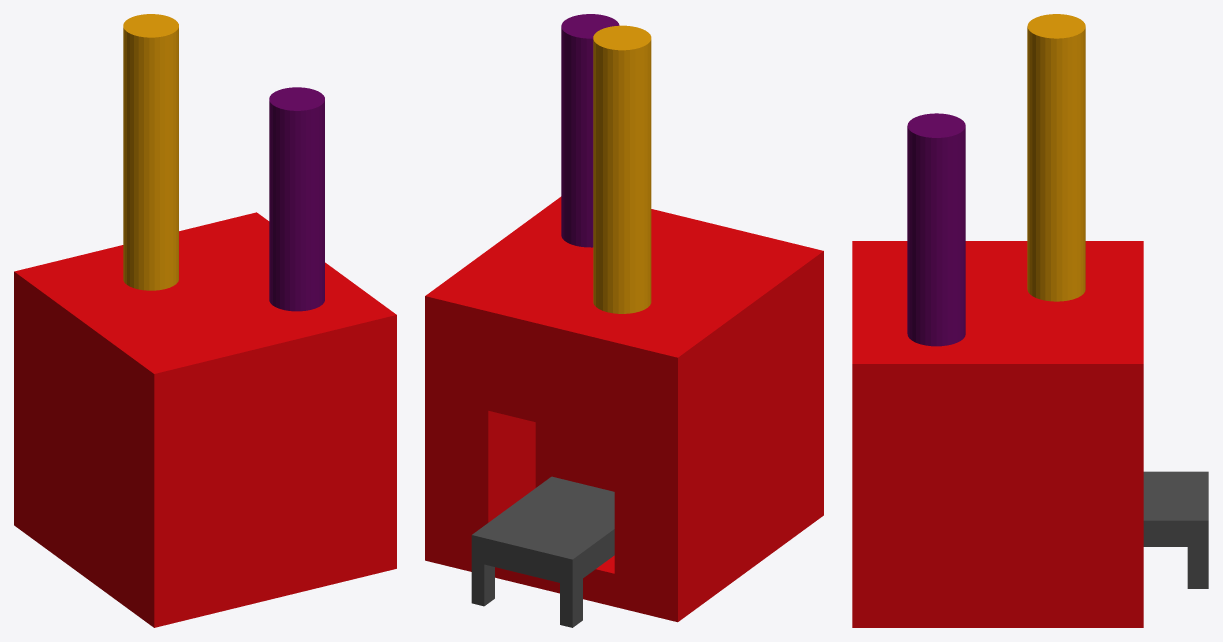
Rendered from Factory_1.dae.
3 renders of one model, left to right at view 1: azimuth 30°, elevation 25°; view 2: azimuth 150°, elevation 25°; view 3: azimuth 270°, elevation 25°, orthographic. The views are drawn at different scales.
Parts seen in each view (by area): view 1: Cube, Цилиндр, Цилиндр.001; view 2: Cube, Цилиндр, Cube.001, Цилиндр.001; view 3: Cube, Цилиндр, Цилиндр.001, Cube.001.
Part boxes in pixels (bbox=[...]): Cube: bbox=[14, 212, 396, 627]; Цилиндр: bbox=[123, 14, 178, 290]; Цилиндр.001: bbox=[269, 87, 324, 311]; Cube: bbox=[425, 196, 823, 622]; Цилиндр: bbox=[593, 25, 651, 313]; Cube.001: bbox=[471, 476, 614, 627]; Цилиндр.001: bbox=[561, 14, 619, 247]; Cube: bbox=[852, 241, 1143, 627]; Цилиндр: bbox=[1027, 14, 1085, 301]; Цилиндр.001: bbox=[907, 113, 965, 346]; Cube.001: bbox=[1143, 471, 1208, 588].
Bounding box in the file's own units: 2 × 2.45 × 3.99.
